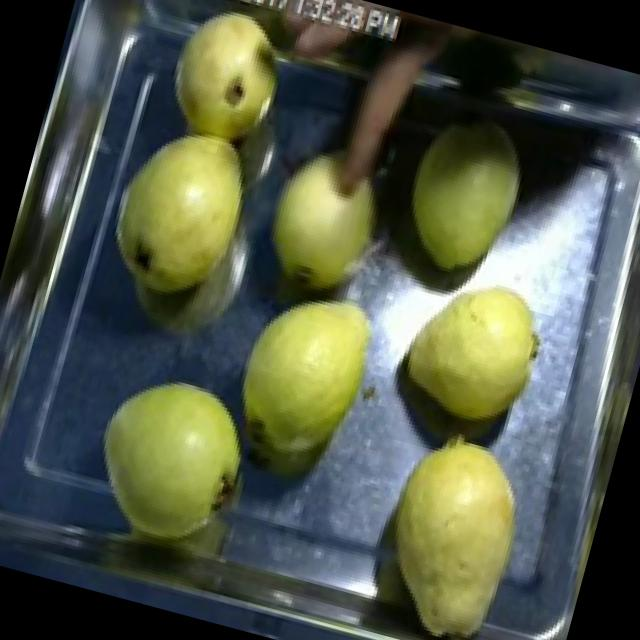Fruit: (208, 258, 406, 507), (347, 409, 557, 640), (372, 240, 584, 458), (69, 352, 274, 570), (87, 105, 278, 326), (376, 96, 550, 306), (238, 124, 416, 327), (148, 0, 305, 162)
